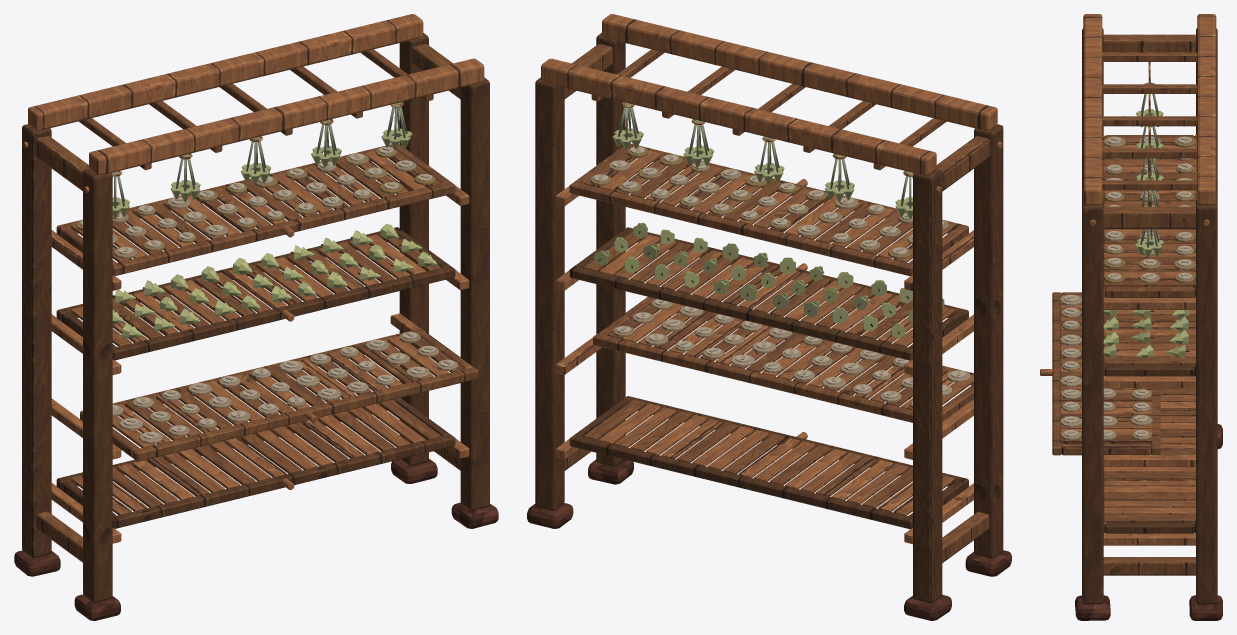
Rendered from rb_drying_rack.glb.
3 renders of one model, left to right at view 1: azimuth 30°, elevation 25°; view 2: azimuth 150°, elevation 25°; view 3: azimuth 270°, elevation 25°, orthographic. The views are drawn at different scales.
Parts seen in each view (by area): view 1: model; view 2: model; view 3: model.
Part boxes in pixels (x1,y1,x2,y2): model: (14, 14, 498, 620); model: (527, 14, 1011, 620); model: (1040, 14, 1222, 620).
Bounding box in the file's own units: 1.63 × 1.75 × 0.675.
Materials: 107 (6 with a texture image).
